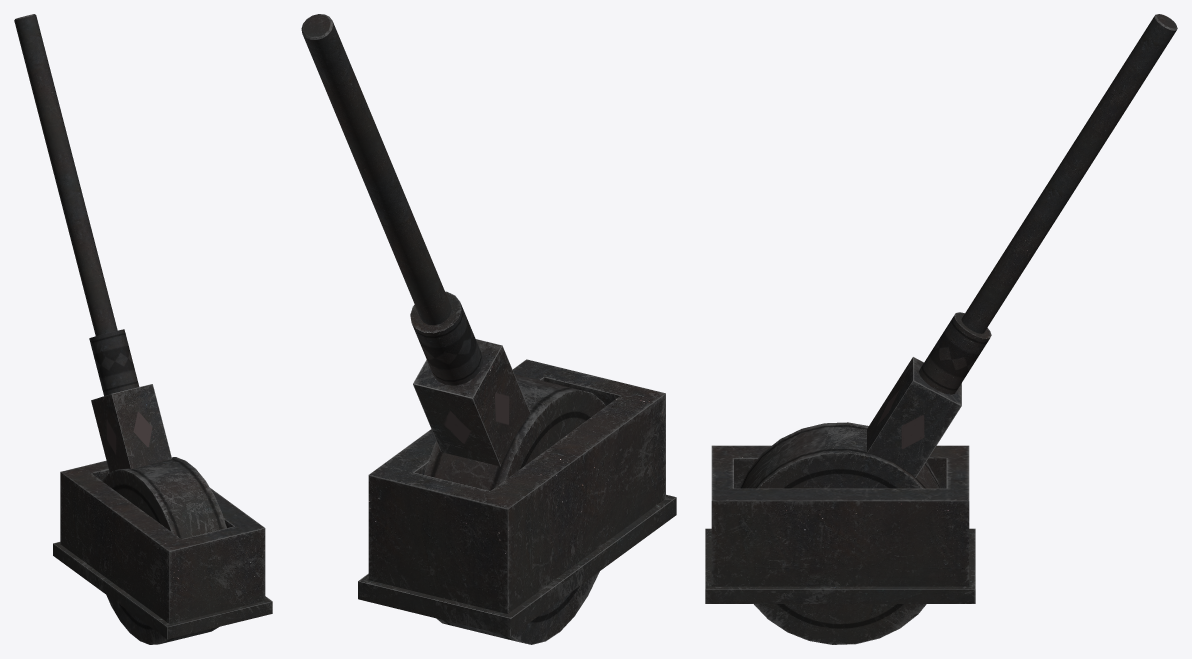
File: lever1.fbx
3 views of the same model, side by side, from view 1: azimuth 30°, elevation 25°; view 2: azimuth 150°, elevation 25°; view 3: azimuth 270°, elevation 25° (orthographic). The views are drawn at different scales.
Parts seen in each view (by area): view 1: lever1_base, lever; view 2: lever1_base, lever; view 3: lever1_base, lever.
Part boxes in pixels (x1,y1,x2,y2): lever1_base: [53, 460, 272, 639]; lever: [14, 14, 226, 644]; lever1_base: [358, 359, 676, 636]; lever: [301, 14, 605, 644]; lever1_base: [705, 445, 975, 603]; lever: [739, 14, 1177, 644].
Size of the model in its own units: 35.03 by 165 by 115.
